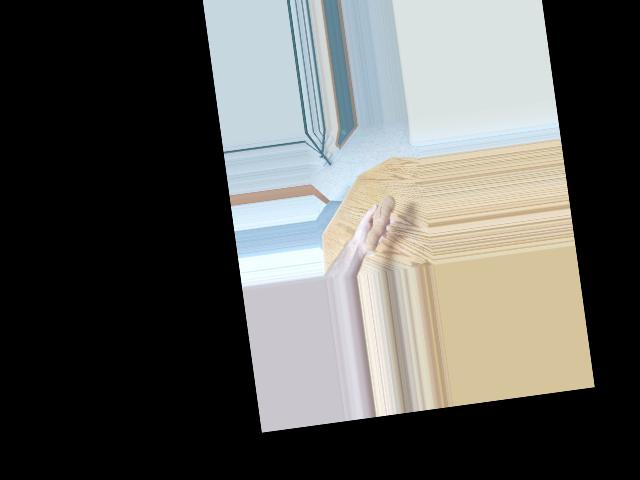sweet_potato: (354, 192, 402, 258)
